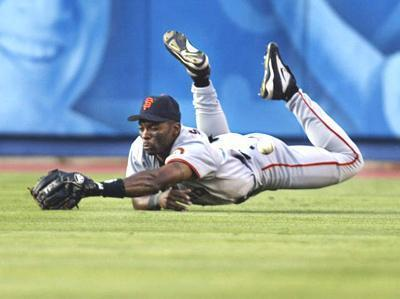Fall-Detected: (11, 14, 387, 214)
